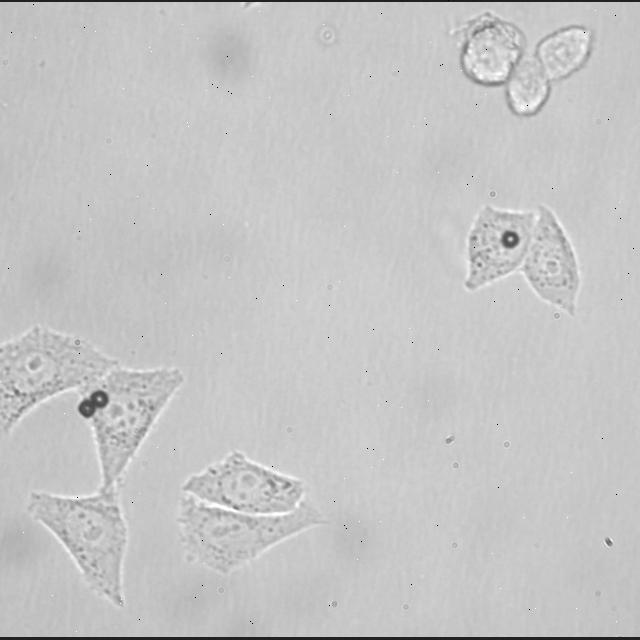microbeads: (496, 230, 522, 252), (90, 388, 108, 410), (77, 398, 95, 419)
